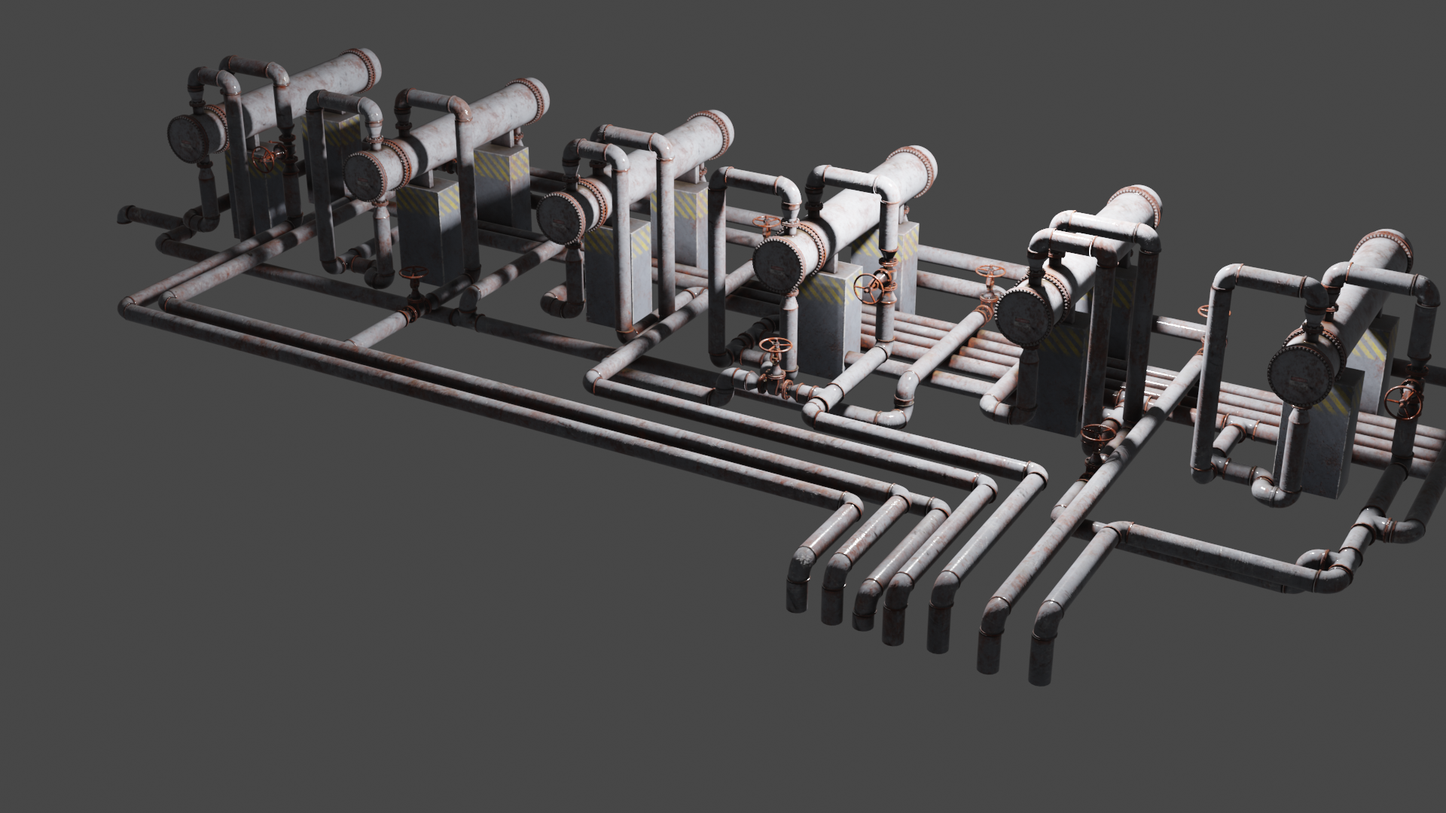HE_1: (165, 45, 383, 163)
HE_2: (342, 74, 550, 201)
HE_3: (535, 109, 733, 242)
HE_4: (751, 142, 939, 290)
HE_5: (992, 185, 1164, 343)
HE_6: (1269, 230, 1415, 401)
